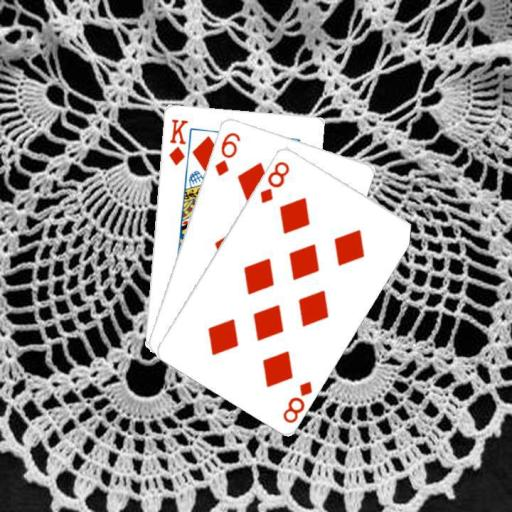6D: (211, 129, 242, 177)
8D: (256, 157, 291, 205), (280, 378, 314, 425)
KD: (166, 115, 189, 167)
